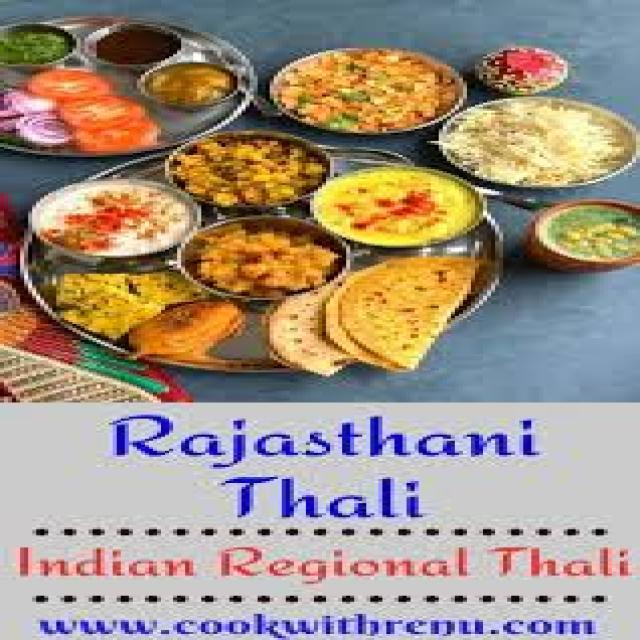dal: (322, 166, 484, 243)
papad: (254, 263, 470, 378)
roti: (255, 265, 466, 376)
sweet: (18, 175, 200, 264)
